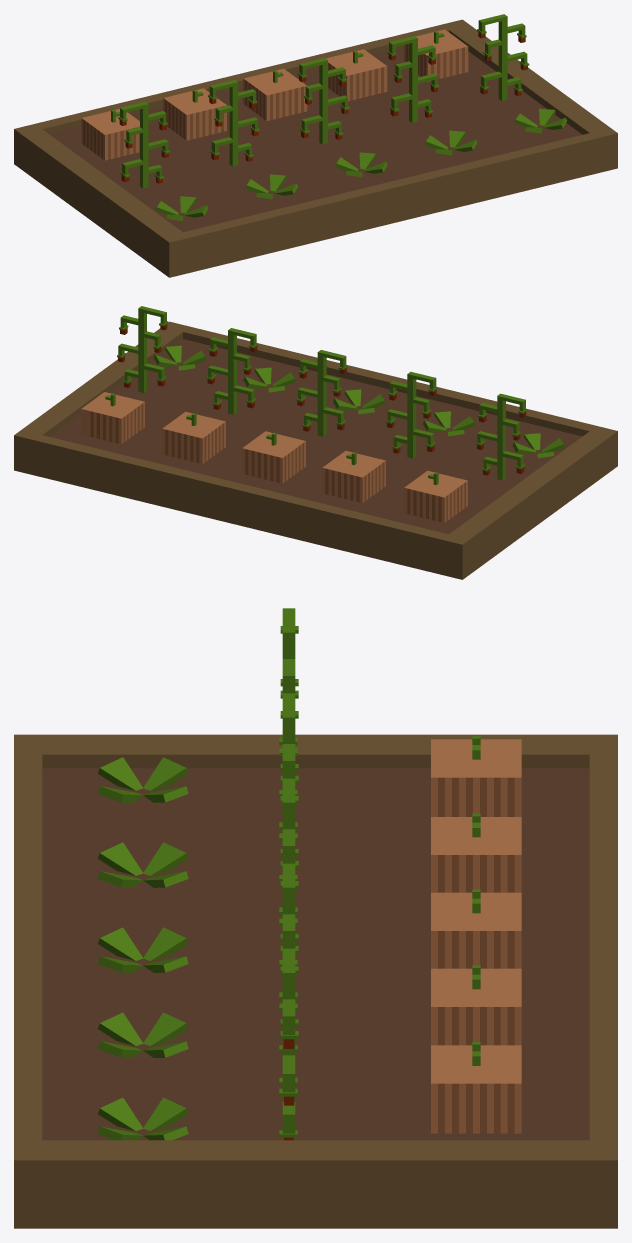
File: vegetables2.fbx
3 renders of one model, top to bottom at view 1: azimuth 30°, elevation 25°; view 2: azimuth 150°, elevation 25°; view 3: azimuth 270°, elevation 25°, orthographic. The views are drawn at different scales.
Parts seen in each view (by area): view 1: bac, pumpkin LOD.005, pumpkin LOD.003, pumpkin LOD.007, pumpkin LOD, pumpkin LOD.009, tomatoe LOD.006, tomatoe LOD.005, tomatoe LOD.009, tomatoe LOD.002, tomatoe LOD.001, tomatoe LOD.004 (+9 smaller); view 2: bac, pumpkin LOD.009, pumpkin LOD.003, pumpkin LOD.005, pumpkin LOD.007, pumpkin LOD, tomatoe LOD.006, tomatoe LOD.001, tomatoe LOD.002, tomatoe LOD.009, tomatoe LOD.005, tomatoe LOD.007 (+9 smaller); view 3: bac, pumpkin LOD.009, pumpkin LOD, pumpkin LOD.007, pumpkin LOD.005, pumpkin LOD.003, carrot.004, carrot.003, carrot, carrot.001, carrot.002, tomatoe LOD.005 (+5 smaller).
Part boxes in pixels (left/top/right/bottom): bac: left=14, top=19, right=617, bottom=277; pumpkin LOD.005: left=243, top=68, right=307, bottom=120; pumpkin LOD.003: left=163, top=88, right=226, bottom=140; pumpkin LOD.007: left=326, top=49, right=387, bottom=101; pumpkin LOD: left=81, top=108, right=139, bottom=160; pumpkin LOD.009: left=404, top=29, right=468, bottom=81; tomatoe LOD.006: left=208, top=80, right=257, bottom=128; tomatoe LOD.005: left=477, top=14, right=526, bottom=62; tomatoe LOD.009: left=118, top=101, right=167, bottom=149; tomatoe LOD.002: left=387, top=36, right=436, bottom=84; tomatoe LOD.001: left=297, top=58, right=347, bottom=106; tomatoe LOD.004: left=479, top=51, right=529, bottom=100; bac: left=14, top=321, right=617, bottom=579; pumpkin LOD.009: left=81, top=392, right=144, bottom=444; pumpkin LOD.003: left=322, top=450, right=385, bottom=502; pumpkin LOD.005: left=242, top=431, right=305, bottom=483; pumpkin LOD.007: left=162, top=411, right=225, bottom=463; pumpkin LOD: left=404, top=470, right=467, bottom=522; tomatoe LOD.006: left=388, top=371, right=437, bottom=419; tomatoe LOD.001: left=298, top=350, right=347, bottom=397; tomatoe LOD.002: left=208, top=328, right=258, bottom=376; tomatoe LOD.009: left=477, top=393, right=527, bottom=441; tomatoe LOD.005: left=119, top=306, right=168, bottom=354; tomatoe LOD.007: left=386, top=409, right=435, bottom=458; bac: left=14, top=734, right=617, bottom=1228; pumpkin LOD.009: left=431, top=1042, right=521, bottom=1133; pumpkin LOD: left=431, top=736, right=521, bottom=816; pumpkin LOD.007: left=431, top=965, right=521, bottom=1045; pumpkin LOD.005: left=431, top=889, right=521, bottom=968; pumpkin LOD.003: left=431, top=813, right=521, bottom=892; carrot.004: left=98, top=757, right=188, bottom=802; carrot.003: left=98, top=842, right=188, bottom=887; carrot: left=98, top=927, right=188, bottom=972; carrot.001: left=98, top=1012, right=188, bottom=1057; carrot.002: left=98, top=1097, right=188, bottom=1140; tomatoe LOD.005: left=280, top=948, right=298, bottom=1055.
Size of the model in its own units: 500 by 119 by 300.
